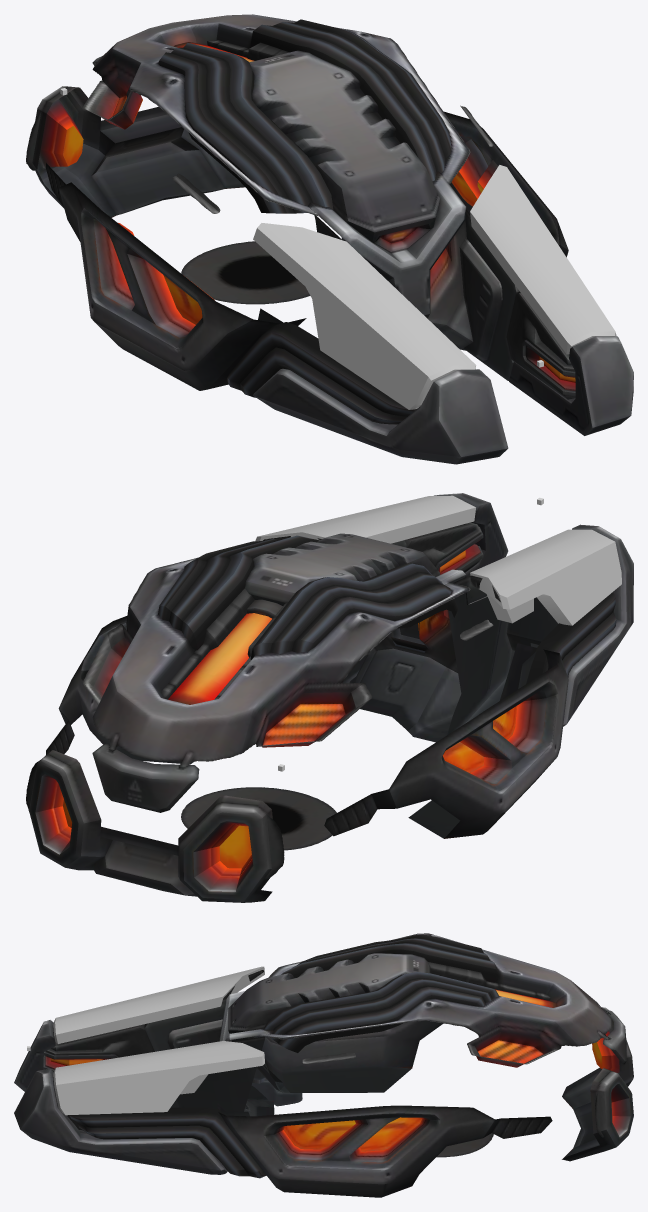
Rendered from Isida_Standart.fbx.
3 renders of one model, top to bottom at view 1: azimuth 30°, elevation 25°; view 2: azimuth 150°, elevation 25°; view 3: azimuth 270°, elevation 25°, orthographic. The views are drawn at different scales.
Parts seen in each view (by area): view 1: turret; view 2: turret; view 3: turret.
Part boxes in pixels (x1,y1,x2,y2): turret: (26, 14, 633, 464); turret: (26, 493, 633, 902); turret: (14, 933, 633, 1197).
Bounding box in the file's own units: 2.19 × 1.2 × 3.88.
